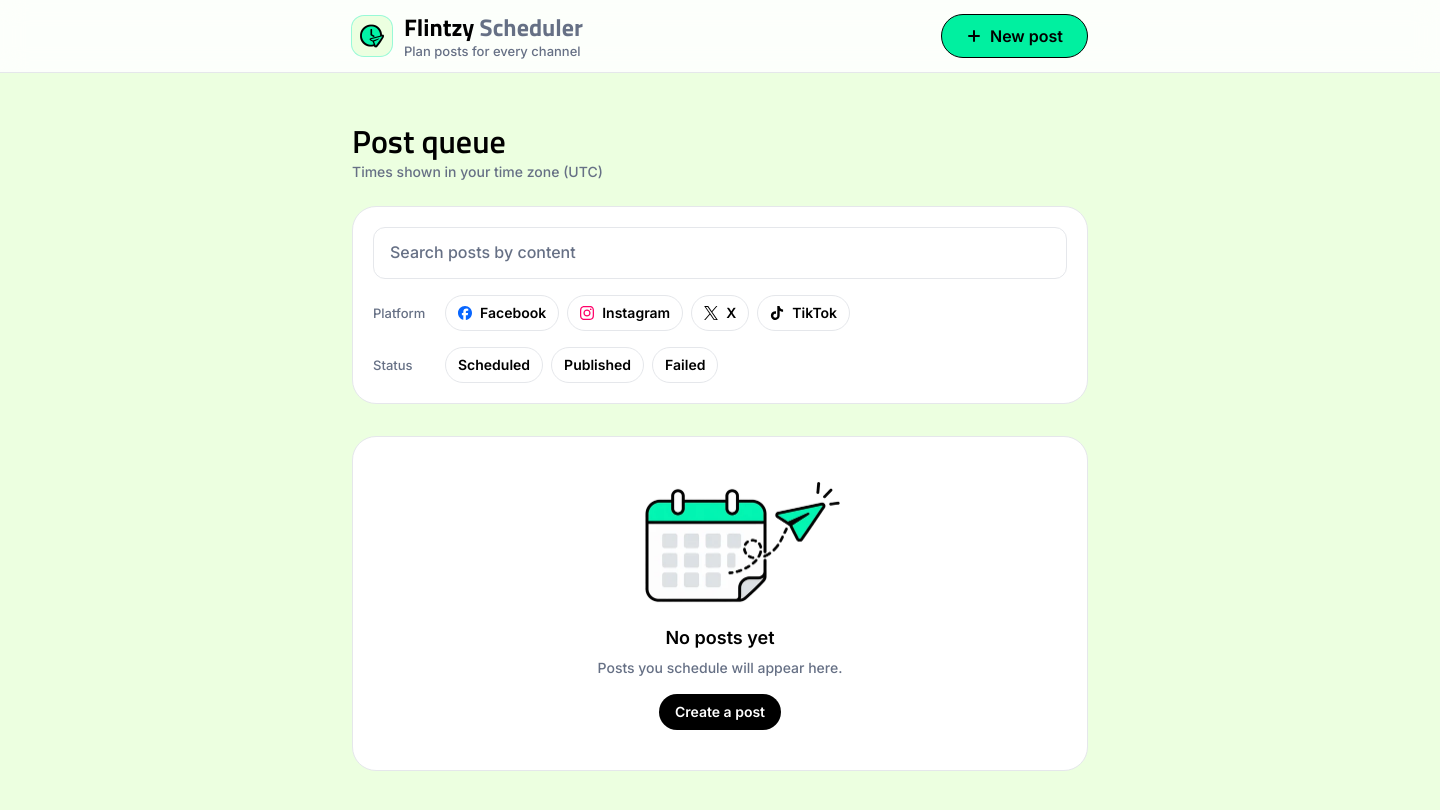
Test case: post composer › closes from the close button
Click the button "New post". click: (1014, 36)
box: [941, 14, 1088, 58]
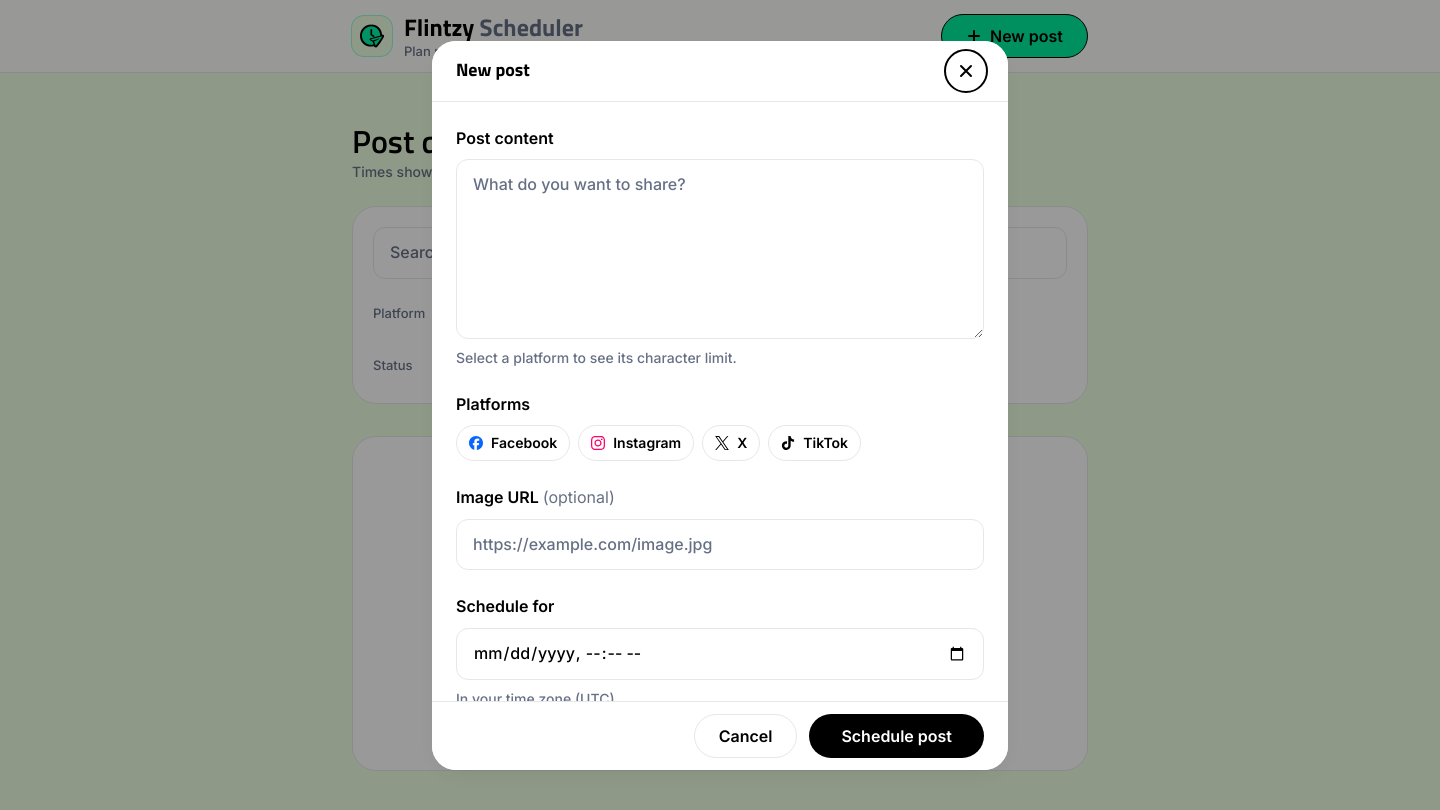
Click the button named "Close". click: (966, 70)
box: [948, 52, 984, 88]
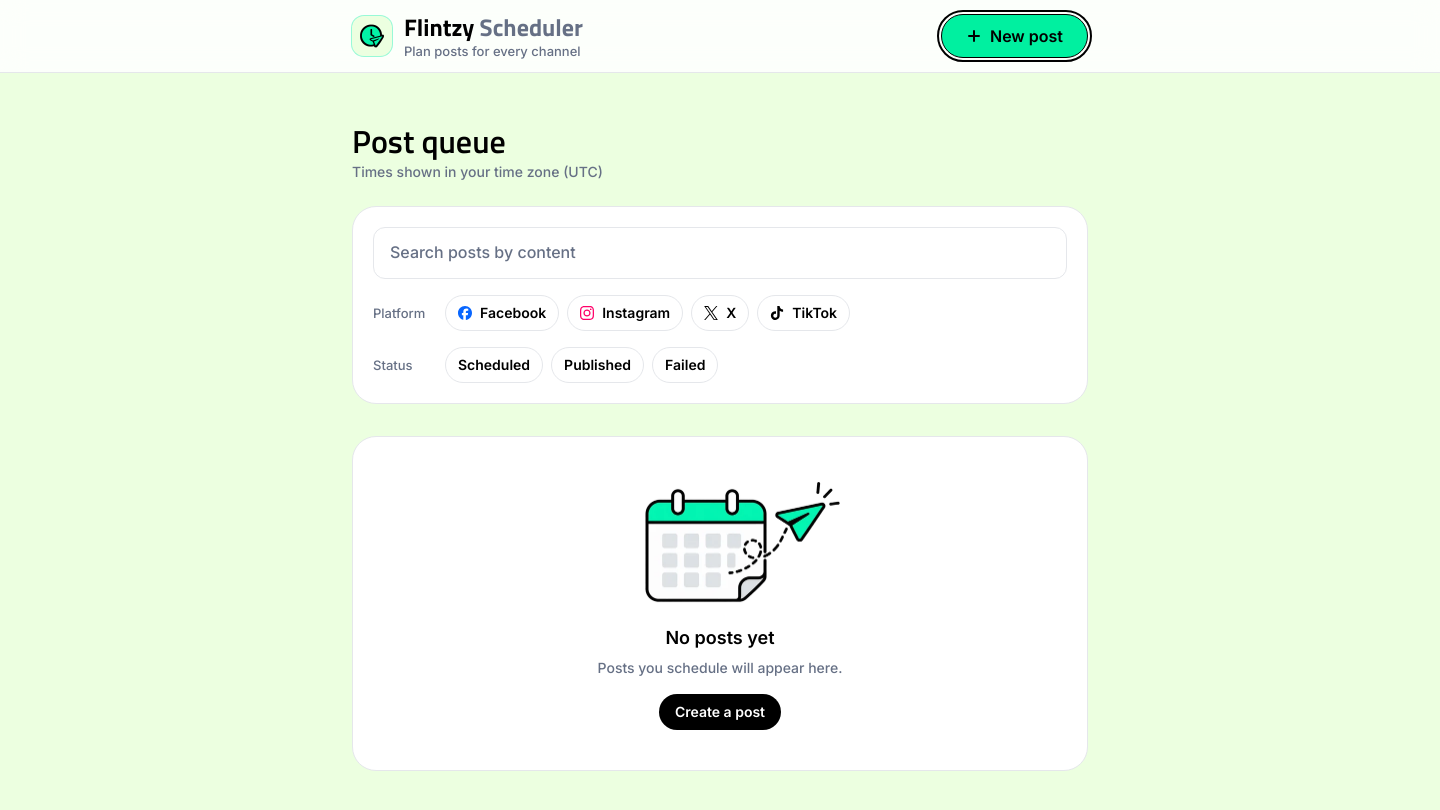
Check: the dialog is gone
